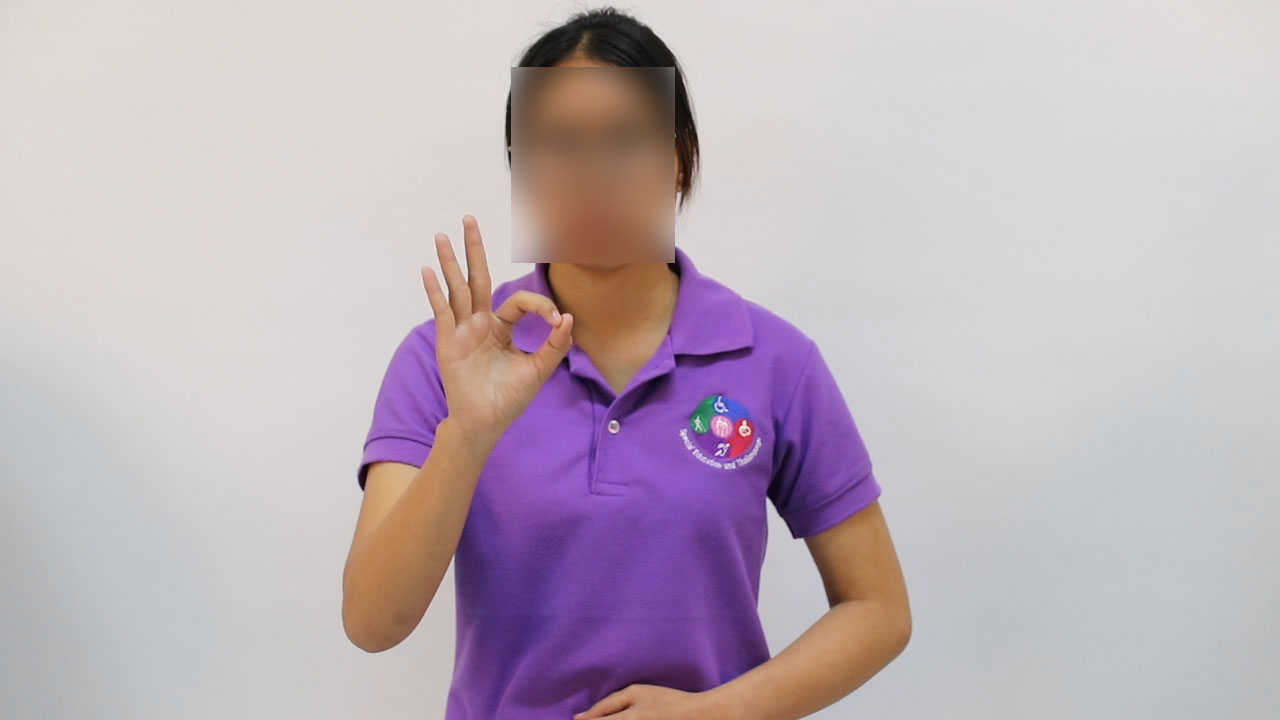for: (415, 207, 585, 437)
